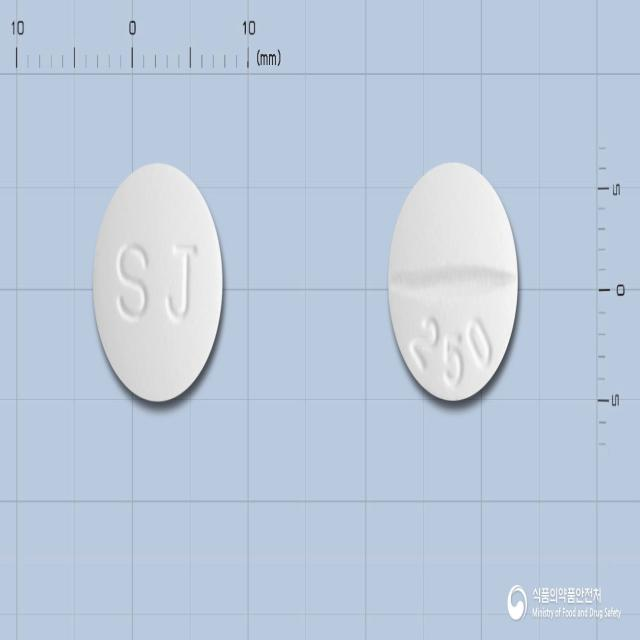Quinos Tab: (93, 162, 224, 406), (388, 160, 520, 402)
